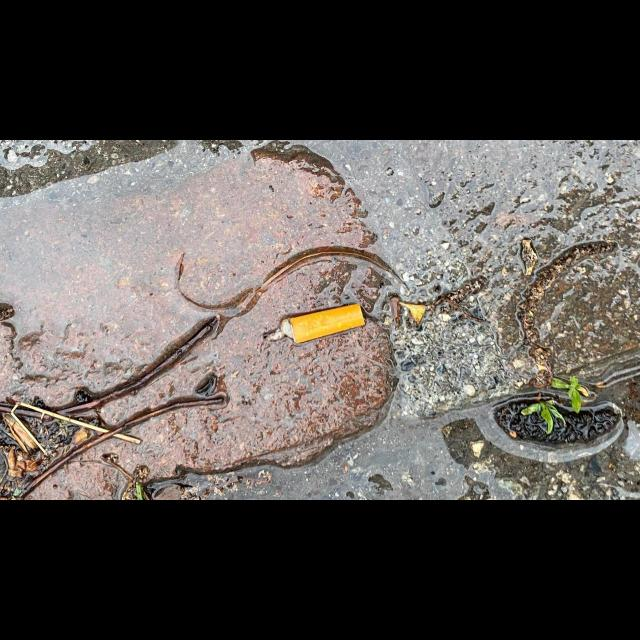cigarette: (263, 303, 366, 345)
